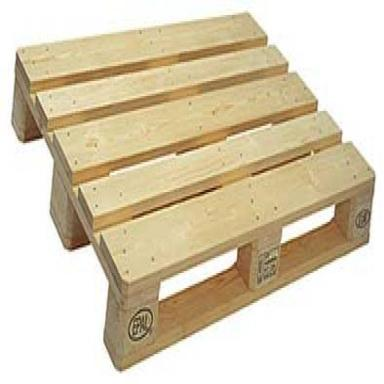pallet: (10, 10, 375, 374)
